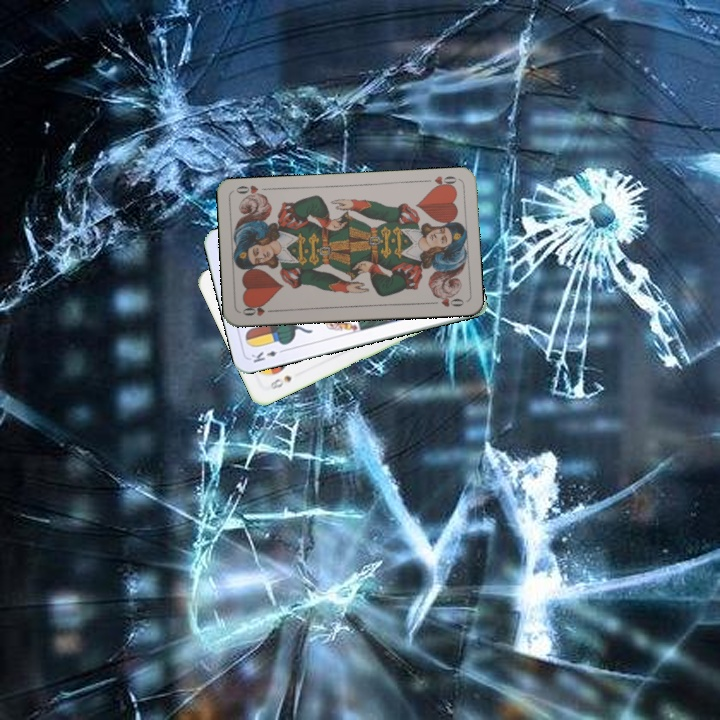EK: (247, 345, 288, 365)
HO: (420, 172, 460, 191), (238, 301, 278, 319)
S8: (263, 371, 294, 393)
